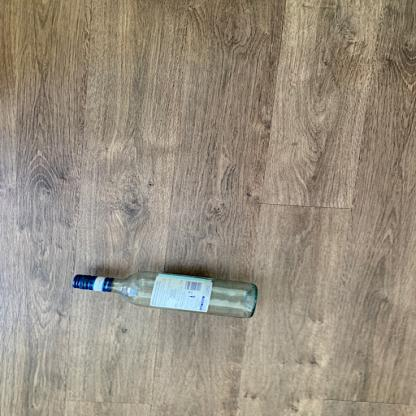trash: (74, 266, 266, 322)
